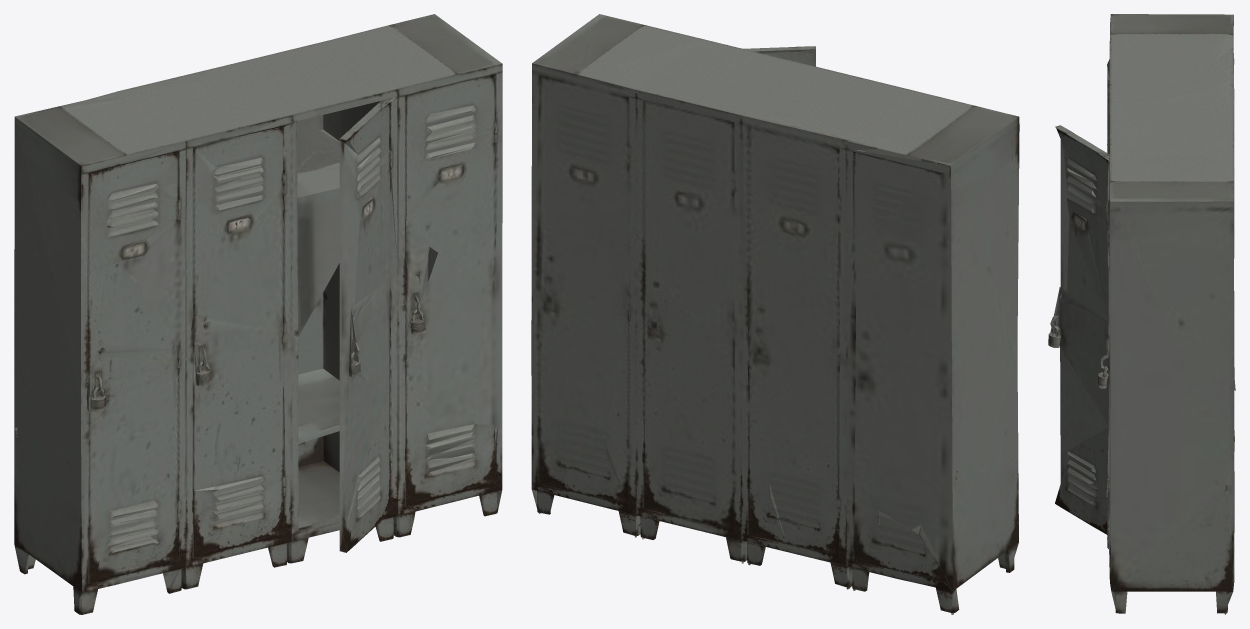
File: lockers.glb
3 views of the same model, side by side, from view 1: azimuth 30°, elevation 25°; view 2: azimuth 150°, elevation 25°; view 3: azimuth 270°, elevation 25° (orthographic). The views are drawn at different scales.
Parts seen in each view (by area): view 1: Mesh_0; view 2: Mesh_0; view 3: Mesh_0.
Boxes of the visible parts, <box> form: Mesh_0: <box>14,14,502,614</box>; Mesh_0: <box>531,14,1019,614</box>; Mesh_0: <box>1048,14,1235,614</box>.
Size of the model in its own units: 1.87 by 1.9 by 0.7795.
Materials: 1 (1 with a texture image).
